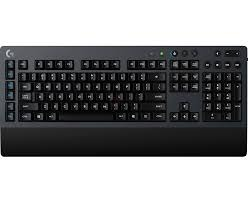keyboard: (3, 51, 248, 150)
